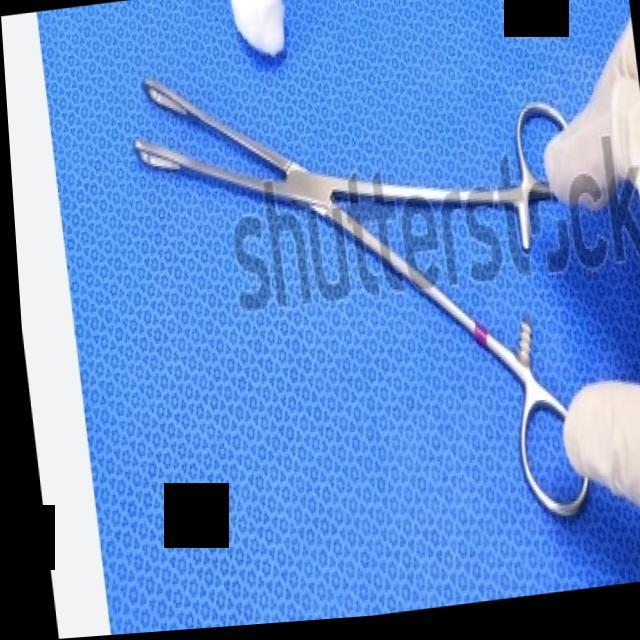Sponge Holding Forceps: (121, 18, 614, 580)
